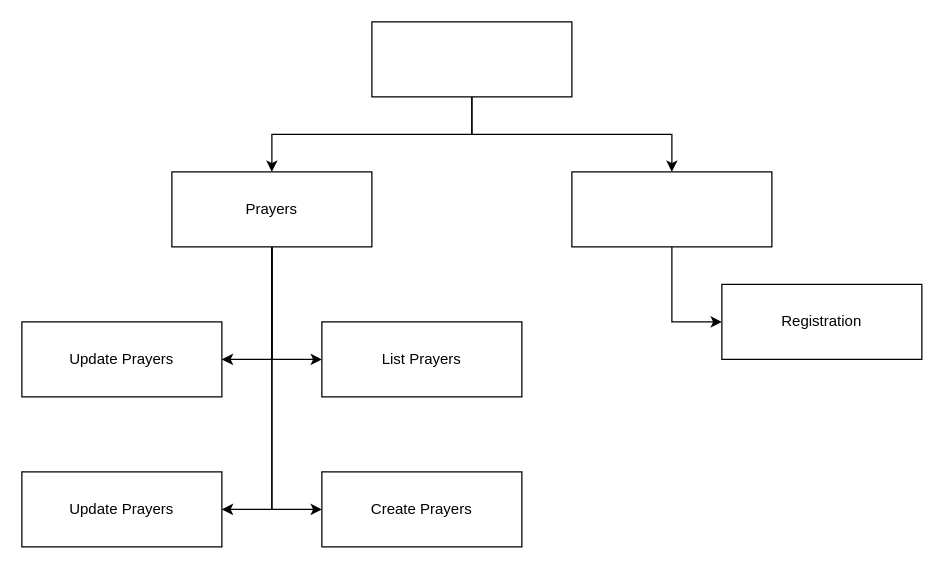
Some shapes in this 944 by 569 pixel diagram are drawn without their labels. The shapes that lost their labels are listed below. From the top down, each one's centre as x and y in pixels, then its label:
At (x=471, y=59): "Home Page".
At (x=671, y=209): "Login".
